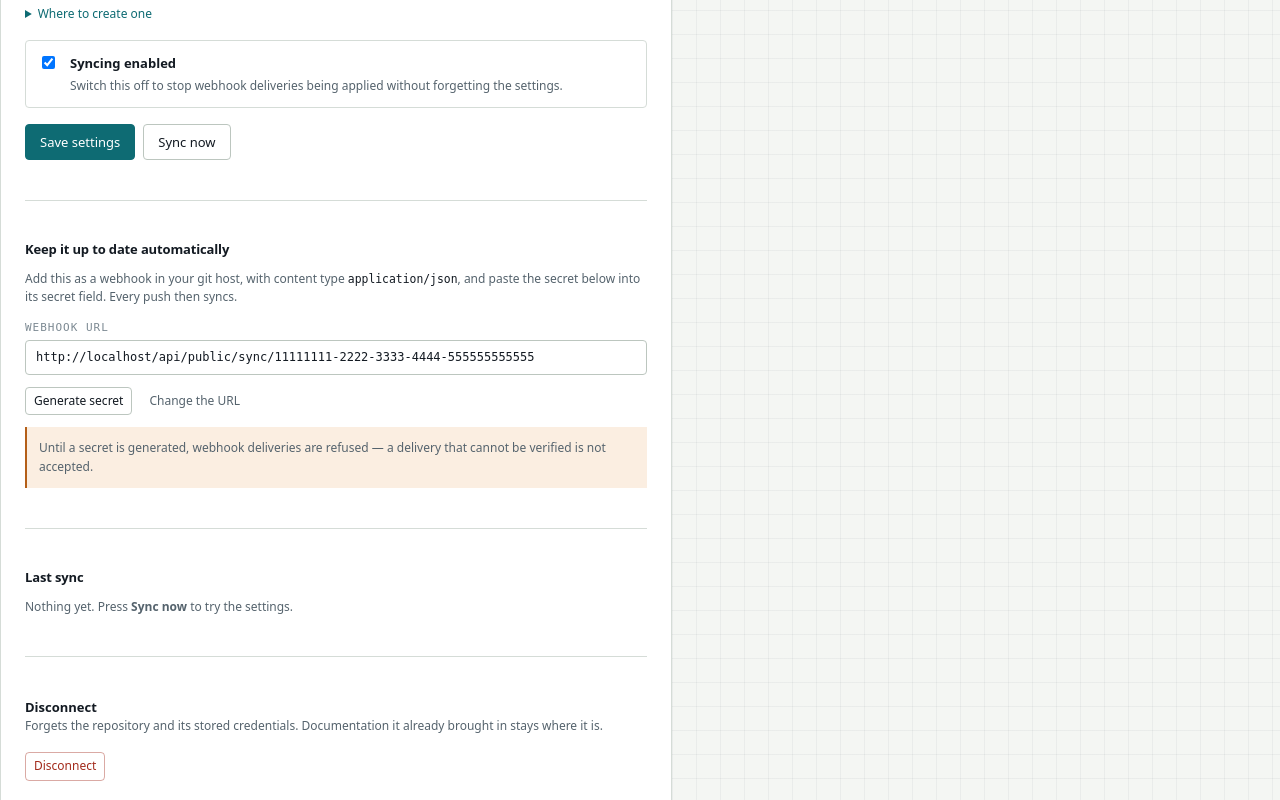
Scenario: GitSyncPanel › shows a generated secret once, and says it cannot be shown again
The width and height of the screenshot is (1280, 800).
(page scrolled)
Click the button "Generate secret".
click(79, 401)  # box [25,387,132,415]
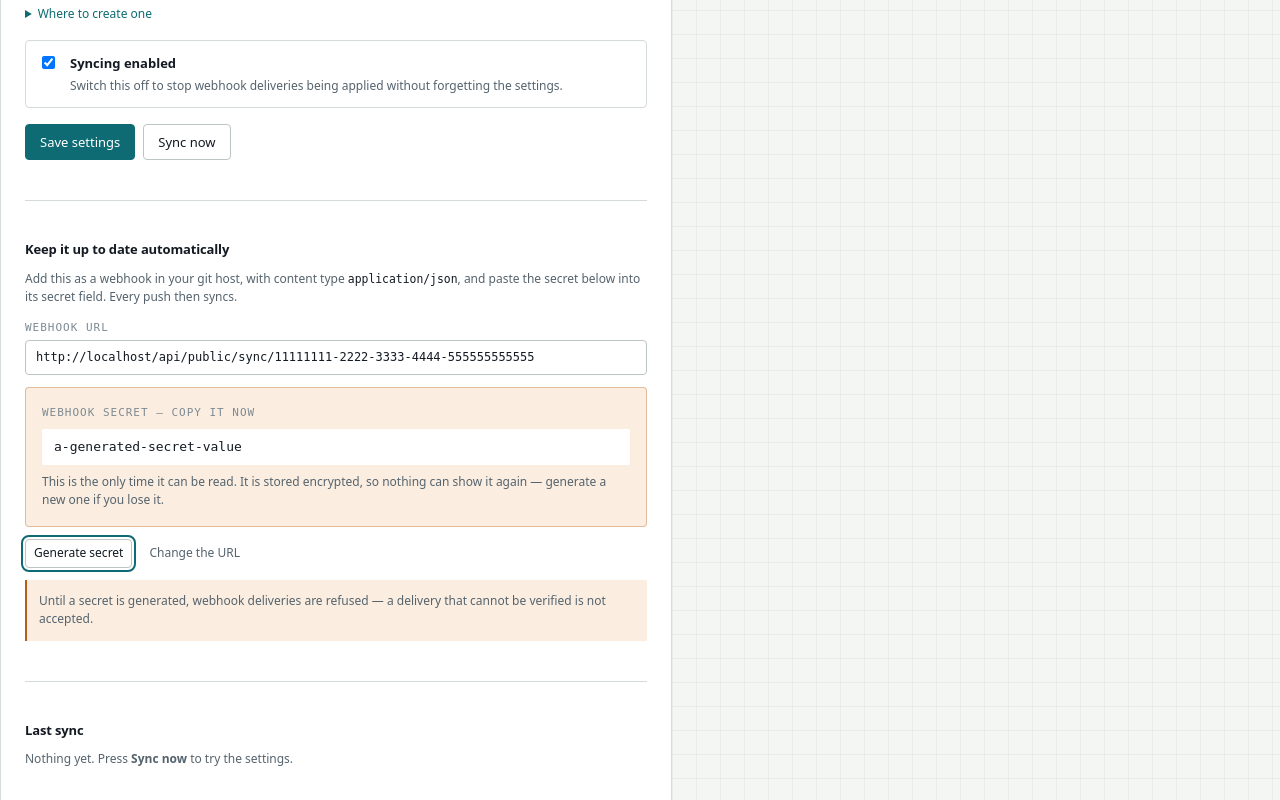
expect the text "a-generated-secret-value" is shown: met, box [42,429,630,465]
expect the text "only time it can be read" is shown: met, box [42,473,606,508]
